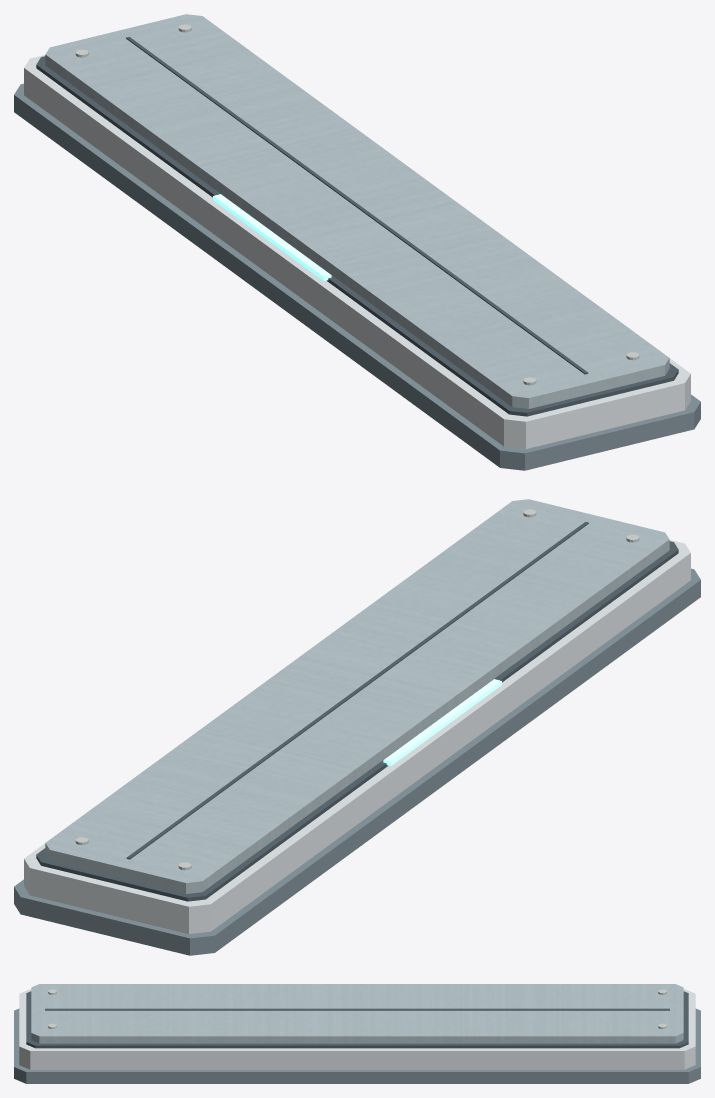
The model's file is m02-metal-edge-east.glb.
3 views of the same model, one above another, from view 1: azimuth 30°, elevation 25°; view 2: azimuth 150°, elevation 25°; view 3: azimuth 270°, elevation 25° (orthographic). The views are drawn at different scales.
Visible parts, largest first — view 1: edge-east/003, edge-east/001, edge-east/000, edge-east/002, edge-east/004, edge-east/009; view 2: edge-east/003, edge-east/001, edge-east/000, edge-east/002, edge-east/004, edge-east/009; view 3: edge-east/003, edge-east/001, edge-east/000, edge-east/002, edge-east/004.
Part boxes in pixels (x1,y1,x2,y2): edge-east/003: [45, 14, 669, 408]; edge-east/001: [24, 55, 690, 448]; edge-east/000: [14, 83, 700, 470]; edge-east/002: [36, 56, 678, 416]; edge-east/004: [126, 37, 588, 374]; edge-east/009: [213, 194, 331, 280]; edge-east/003: [45, 499, 669, 893]; edge-east/001: [24, 540, 690, 933]; edge-east/000: [14, 568, 700, 955]; edge-east/002: [36, 541, 678, 901]; edge-east/004: [126, 522, 588, 859]; edge-east/009: [383, 679, 501, 765]; edge-east/003: [31, 984, 683, 1043]; edge-east/001: [19, 989, 695, 1069]; edge-east/000: [14, 1008, 700, 1083]; edge-east/002: [26, 991, 688, 1048]; edge-east/004: [45, 1008, 669, 1010].
Bounding box in the file's own units: 0.23 × 0.0678 × 1.
Materials: 6 (1 with a texture image).
